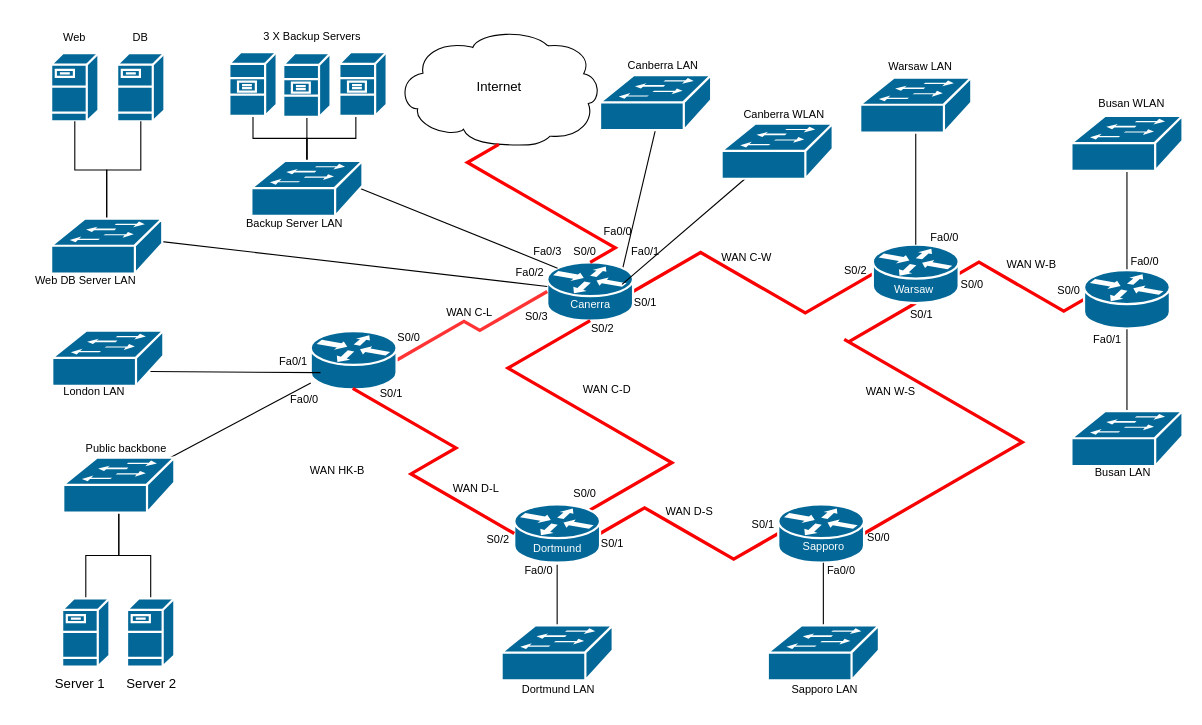
Some shapes in this 1202 by 725 pixel diagram are drawn without their labels. The box of each missing label's shape, as (x1, y1, x2, y2) in pixels:
Busan: (1082, 269, 1170, 329)
London: (309, 329, 397, 390)
